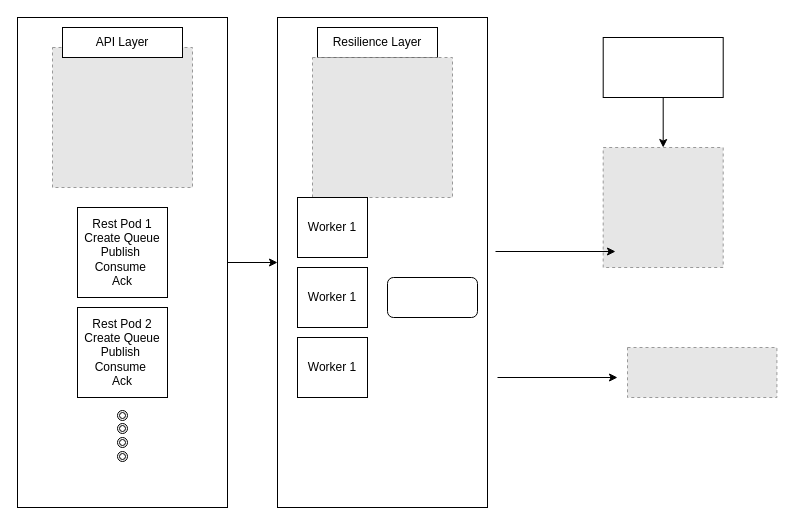
The diagram is 795 pixels wide and 525 high, and some of its shapes have lost their labels. Grey dashed boxes stand in for pictures. The centre of each missing label's shape, as x and y in pixels:
"Compaction Service" belongs at [662,67].
"Scheduler" belongs at [432,297].
